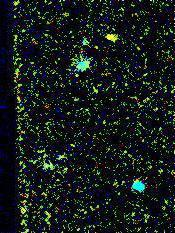star: (96, 22, 126, 52)
